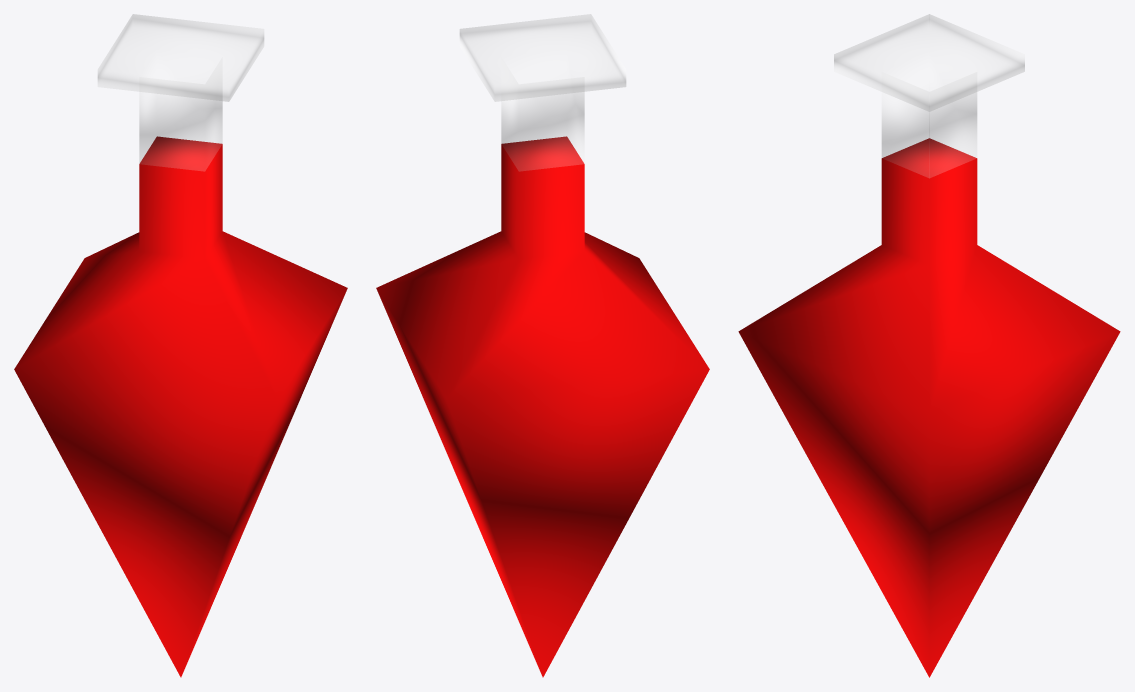
The model's file is Red.glb.
3 views of the same model, side by side, from view 1: azimuth 30°, elevation 25°; view 2: azimuth 150°, elevation 25°; view 3: azimuth 270°, elevation 25° (orthographic).
Visible parts, largest first — view 1: Filled; view 2: Filled; view 3: Filled.
Part boxes in pixels (x1=…): Filled: x1=14, y1=14, x2=347, y2=677; Filled: x1=376, y1=14, x2=709, y2=677; Filled: x1=738, y1=14, x2=1120, y2=677.
Bounding box in the file's own units: 4 × 7.2 × 4.
